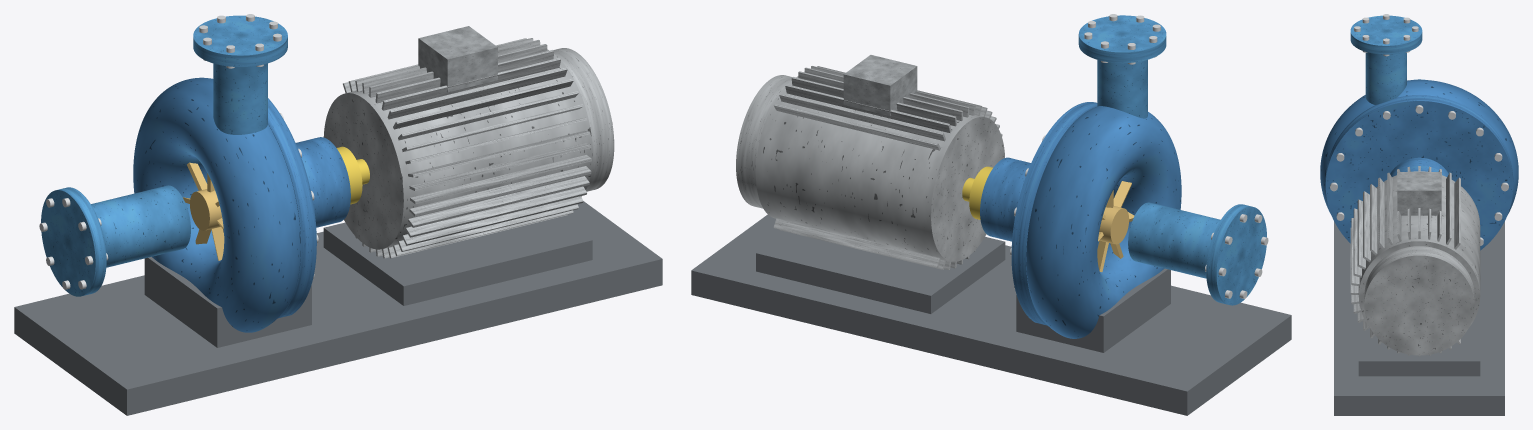
The model's file is MF-MODEL-REP.glb.
3 renders of one model, left to right at view 1: azimuth 30°, elevation 25°; view 2: azimuth 150°, elevation 25°; view 3: azimuth 270°, elevation 25°, orthographic. The views are drawn at different scales.
Parts seen in each view (by area): view 1: Base, Motor, Casing, Inlet, Outlet, TerminalBox, BearingHousing, Impeller, Fasteners, Coupling; view 2: Base, Motor, Casing, Inlet, Outlet, TerminalBox, BearingHousing, Impeller, Fasteners, Coupling; view 3: Motor, Casing, Base, Outlet, TerminalBox, Fasteners, BearingHousing.
Part boxes in pixels (x1=…): Base: x1=14, y1=201, x2=662, y2=415; Motor: x1=323, y1=38, x2=614, y2=258; Casing: x1=133, y1=77, x2=316, y2=332; Inlet: x1=41, y1=185, x2=190, y2=296; Outlet: x1=193, y1=15, x2=287, y2=134; TerminalBox: x1=418, y1=26, x2=497, y2=92; BearingHousing: x1=295, y1=137, x2=350, y2=227; Impeller: x1=183, y1=162, x2=224, y2=260; Fasteners: x1=39, y1=14, x2=318, y2=289; Coupling: x1=336, y1=146, x2=369, y2=204; Base: x1=691, y1=214, x2=1291, y2=415; Motor: x1=736, y1=66, x2=1004, y2=269; Casing: x1=1011, y1=102, x2=1181, y2=338; Inlet: x1=1128, y1=202, x2=1266, y2=305; Outlet: x1=1078, y1=15, x2=1166, y2=118; TerminalBox: x1=843, y1=55, x2=917, y2=116; BearingHousing: x1=980, y1=157, x2=1030, y2=241; Impeller: x1=1097, y1=181, x2=1134, y2=272; Fasteners: x1=1010, y1=14, x2=1268, y2=298; Coupling: x1=962, y1=166, x2=992, y2=219; Motor: x1=1350, y1=166, x2=1480, y2=356; Casing: x1=1320, y1=79, x2=1518, y2=250; Base: x1=1334, y1=221, x2=1504, y2=415; Outlet: x1=1350, y1=15, x2=1422, y2=104; TerminalBox: x1=1397, y1=172, x2=1441, y2=215; Fasteners: x1=1330, y1=14, x2=1508, y2=245; BearingHousing: x1=1390, y1=157, x2=1448, y2=176.
Bounding box in the file's own units: 1.72 × 0.98 × 0.72.
10 materials, 6 textured.
